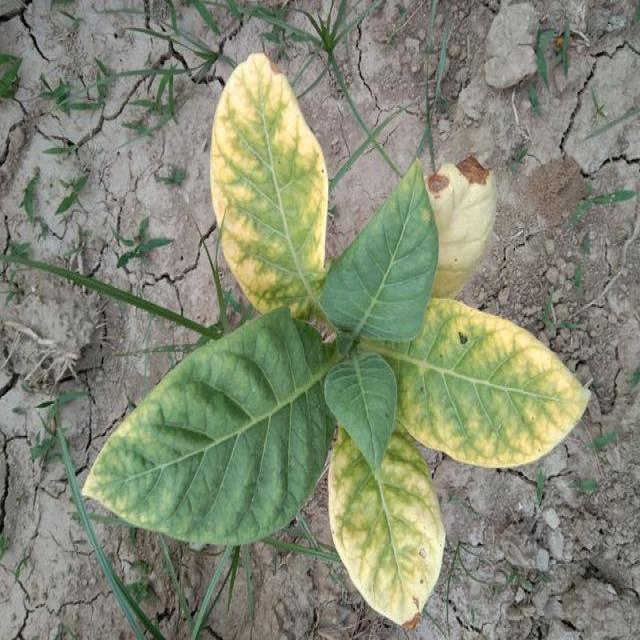crop: (101, 52, 590, 608)
